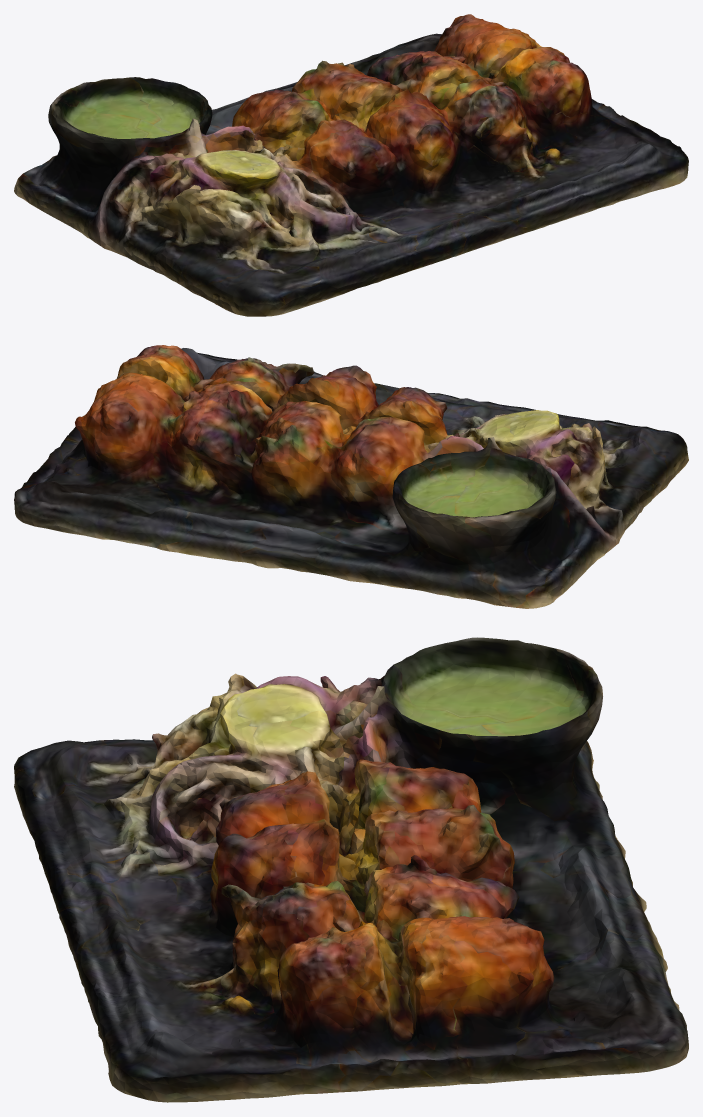
The model's file is platter-final.glb.
3 views of the same model, one above another, from view 1: azimuth 30°, elevation 25°; view 2: azimuth 150°, elevation 25°; view 3: azimuth 270°, elevation 25° (orthographic). The views are drawn at different scales.
Bounding box in the file's own units: 0.2745 × 0.0445 × 0.2118.
Materials: 1 (1 with a texture image).
